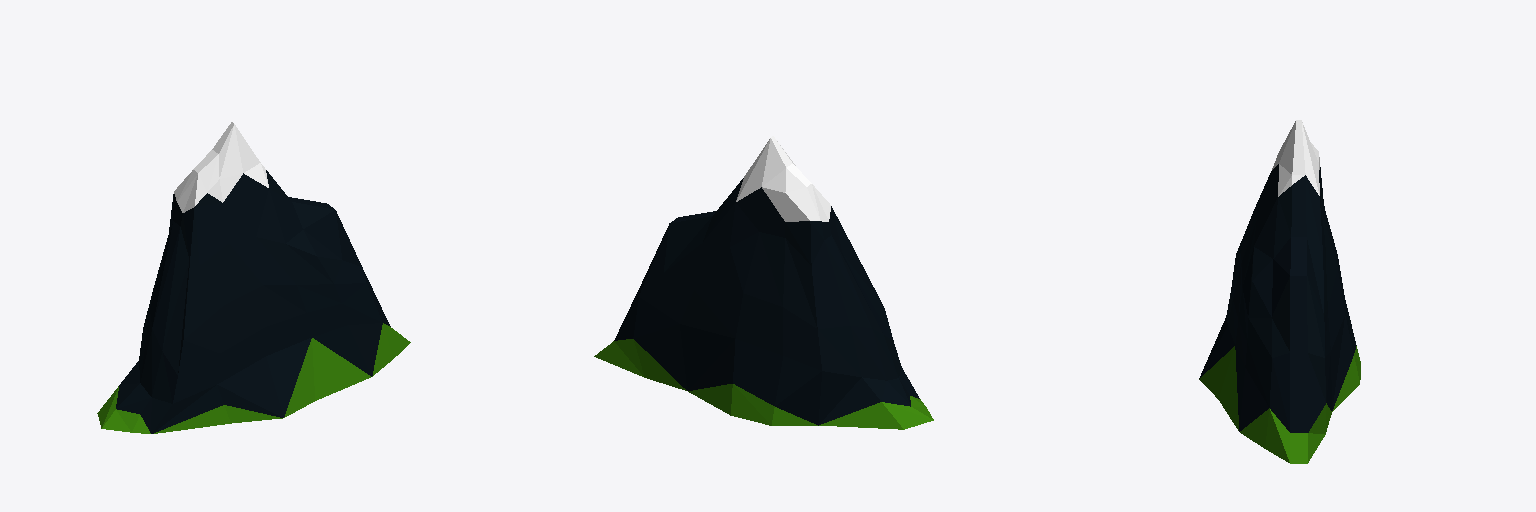
File: Mountain_01.obj
3 renders of one model, left to right at view 1: azimuth 30°, elevation 25°; view 2: azimuth 150°, elevation 25°; view 3: azimuth 270°, elevation 25°, orthographic.
Visible parts, largest first — view 1: Mountain_Cube; view 2: Mountain_Cube; view 3: Mountain_Cube.
Part boxes in pixels (left/top/right/bottom): Mountain_Cube: left=97, top=122, right=410, bottom=433; Mountain_Cube: left=594, top=136, right=933, bottom=429; Mountain_Cube: left=1199, top=120, right=1360, bottom=463.
Bounding box in the file's own units: 10.86 × 8.39 × 4.76.